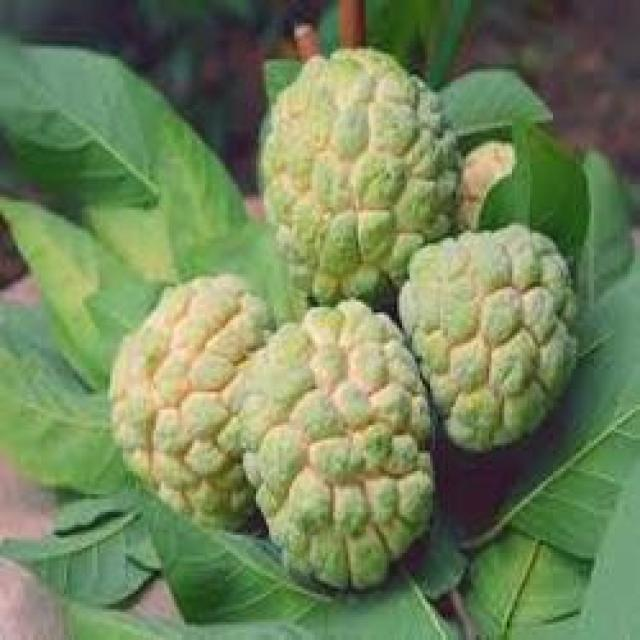apple: (246, 297, 448, 589), (254, 38, 451, 302), (102, 266, 282, 535), (396, 220, 578, 461)
